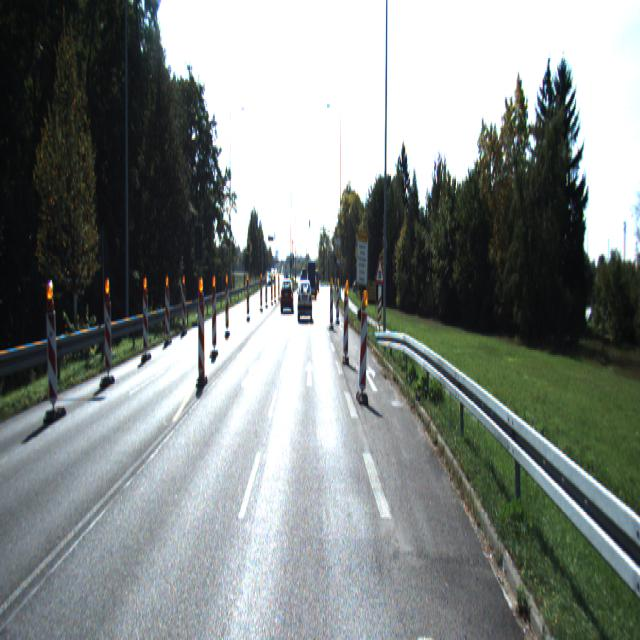Car: (298, 287, 312, 326), (280, 280, 294, 314), (307, 262, 316, 299)
